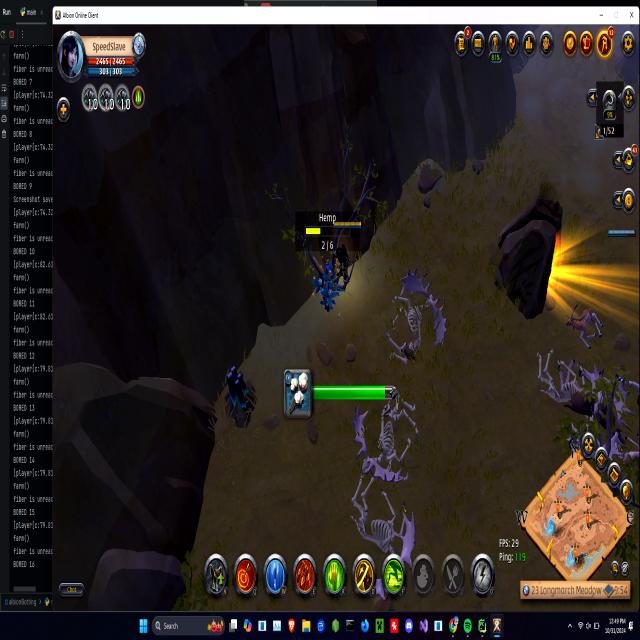hide: (314, 262, 340, 313)
mob: (555, 355, 625, 438), (564, 302, 603, 349)
player: (218, 360, 258, 431)
red: (330, 218, 358, 286)
